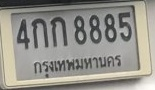num4: (14, 18, 32, 51)
txt01: (49, 15, 69, 48), (30, 17, 50, 49)
